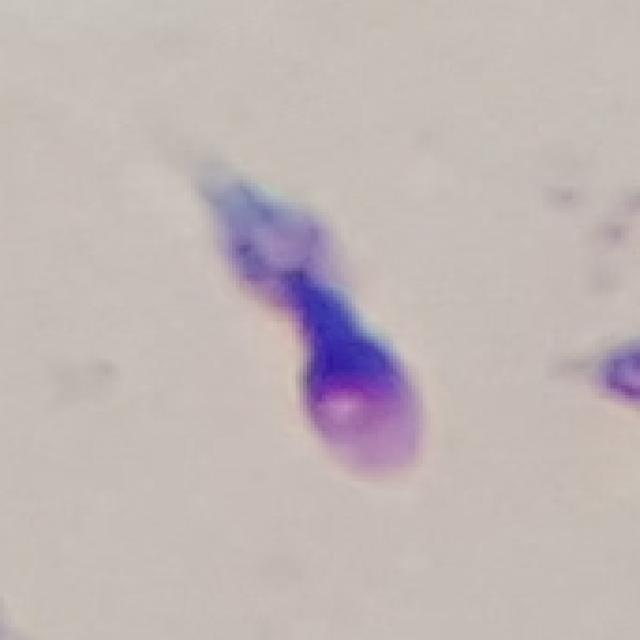abnormal sperm: (193, 161, 426, 484)
